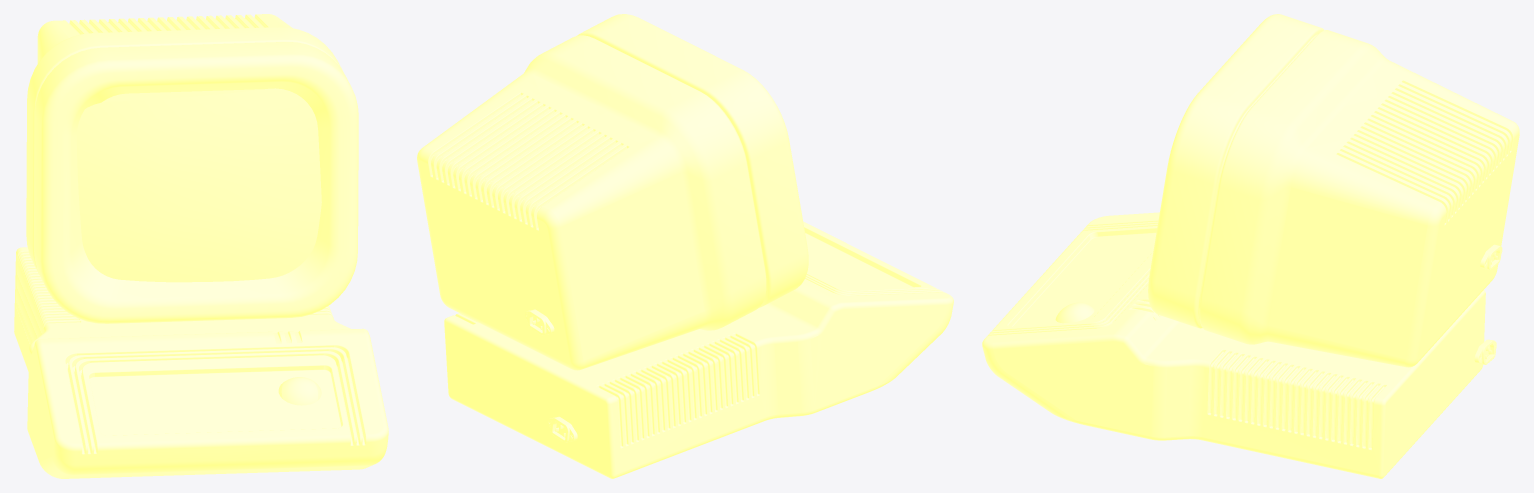
Rendered from Retro_Computer.glb.
The picture shows the model from 3 angles, left to right: view 1: azimuth 30°, elevation 25°; view 2: azimuth 150°, elevation 25°; view 3: azimuth 270°, elevation 25°; orthographic projection. The views are drawn at different scales.
Visible parts, largest first — view 1: Part2, Part1; view 2: Part2, Part1; view 3: Part2, Part1.
Boxes of the visible parts, x1=… form: Part2: x1=14, y1=14, x2=388, y2=478; Part1: x1=77, y1=88, x2=321, y2=405; Part2: x1=417, y1=14, x2=953, y2=478; Part1: x1=525, y1=309, x2=577, y2=442; Part2: x1=982, y1=14, x2=1519, y2=478; Part1: x1=1055, y1=244, x2=1502, y2=364.
Size of the model in its own units: 3.76 by 3.33 by 4.7.
